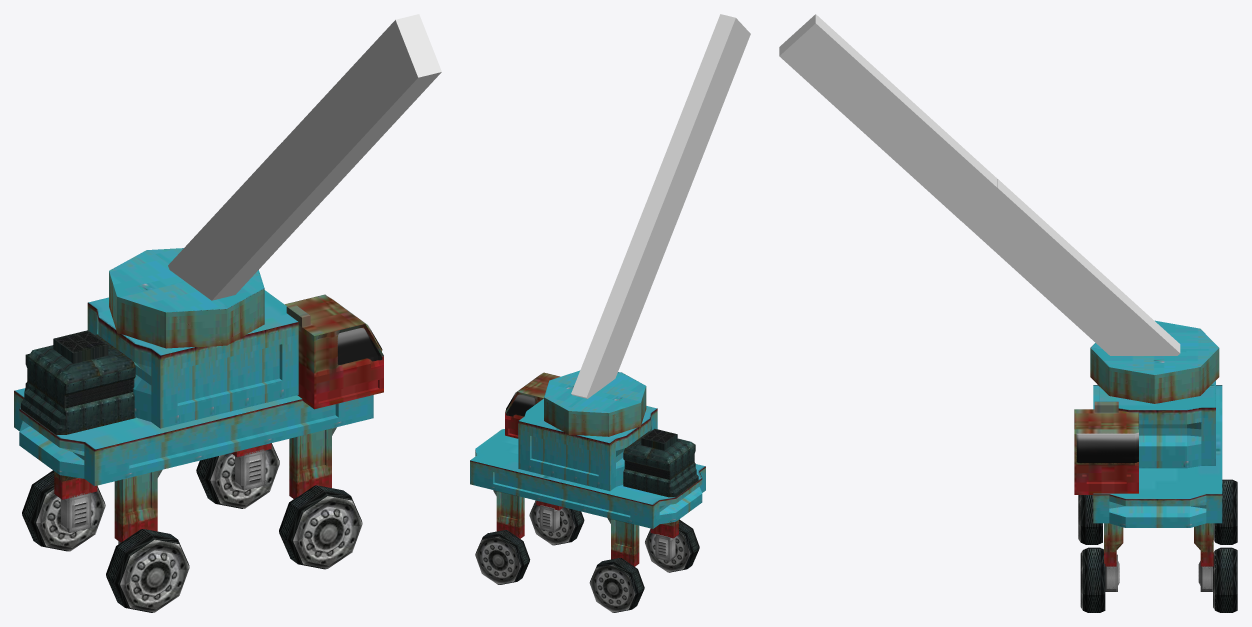
The model's file is crane.fbx.
3 renders of one model, left to right at view 1: azimuth 30°, elevation 25°; view 2: azimuth 150°, elevation 25°; view 3: azimuth 270°, elevation 25°, orthographic. The views are drawn at different scales.
Visible parts, largest first — view 1: Cube.009, Cube.010, Cube.013, Cube, crane_rotor, Cube.011, Cube.012, RearRightWheel, FrontRightWheel, RearLeftWheel, FrontLeftWheel, Cube.001 (+4 smaller); view 2: Cube.009, Cube.013, Cube, Cube.010, crane_rotor, Cube.011, RearLeftWheel, FrontLeftWheel, Cube.012, RearRightWheel, FrontRightWheel, Cube.004 (+3 smaller); view 3: Cube.013, Cube, Cube.009, crane_rotor, Cube.010, Cube.012, FrontRightWheel, FrontLeftWheel, RearLeftWheel, RearRightWheel, Cube.003, Cube.002.
Part boxes in pixels (box(x1,y1,x2,y2)): Cube.009: box(14, 388, 373, 486); Cube.010: box(87, 290, 298, 428); Cube.013: box(281, 14, 441, 200); Cube: box(168, 142, 327, 300); crane_rotor: box(109, 248, 264, 348); Cube.011: box(21, 330, 135, 434); Cube.012: box(285, 294, 383, 409); RearRightWheel: box(106, 529, 189, 612); FrontRightWheel: box(279, 485, 362, 569); RearLeftWheel: box(22, 470, 105, 551); FrontLeftWheel: box(196, 443, 279, 508); Cube.001: box(114, 469, 162, 542); Cube.009: box(470, 429, 705, 528); Cube.013: box(646, 14, 750, 223); Cube: box(571, 204, 675, 398); Cube.010: box(518, 398, 657, 490); crane_rotor: box(544, 370, 646, 436); Cube.011: box(623, 428, 698, 497); RearLeftWheel: box(589, 558, 644, 612); FrontLeftWheel: box(475, 530, 530, 584); Cube.012: box(505, 372, 560, 438); RearRightWheel: box(645, 519, 699, 572); FrontRightWheel: box(529, 500, 584, 545); Cube.004: box(607, 518, 639, 566); Cube.013: box(779, 14, 997, 220); Cube: box(961, 179, 1180, 355); Cube.009: box(1093, 385, 1222, 527); crane_rotor: box(1090, 320, 1219, 403); Cube.010: box(1099, 380, 1215, 468); Cube.012: box(1074, 401, 1138, 494); FrontRightWheel: box(1080, 547, 1105, 612); FrontLeftWheel: box(1213, 547, 1237, 612); RearLeftWheel: box(1213, 479, 1237, 544); RearRightWheel: box(1078, 495, 1102, 544); Cube.003: box(1194, 523, 1213, 566); Cube.002: box(1104, 523, 1123, 566).
Bounding box in the file's own units: 877 × 1913 × 1421.
Materials: 11 (10 with a texture image).
